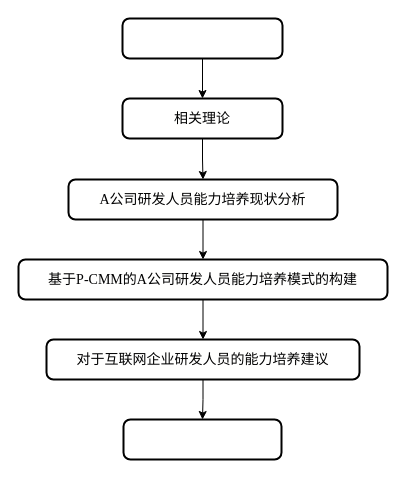
Image size: 405x477. Some labels were removed from this diagram. The centre of each missing label's shape, as x and y in pixels:
"结论和建议" belongs at point 202,439.
"绪论" belongs at point 202,38.
